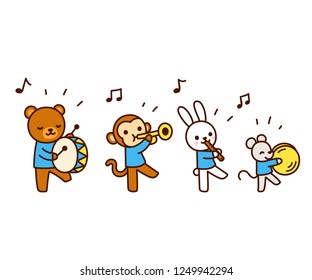animal: (20, 100, 92, 192), (105, 105, 173, 194), (174, 99, 234, 197), (237, 132, 304, 197)
